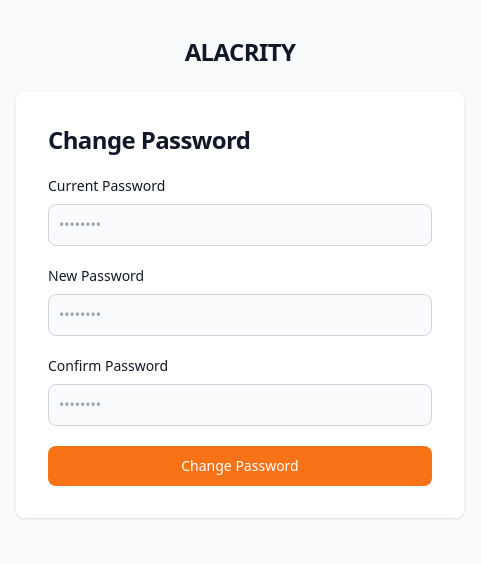
ChangePassword component › shows an error message on API failure
This screenshot has width=481, height=564.
In the password field labelled "Current Password": (240, 225) [48,204,432,246], type "OldPassword123!"
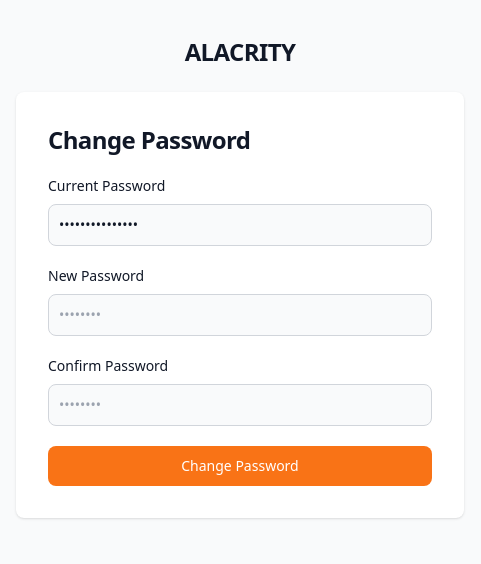
In the password field labelled "New Password": (240, 315) [48,294,432,336], type "NewPassword123!"
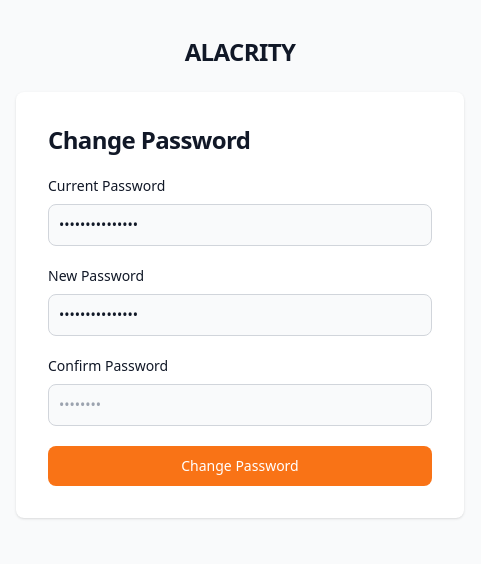
In the password field labelled "Confirm Password": (240, 405) [48,384,432,426], type "NewPassword123!"
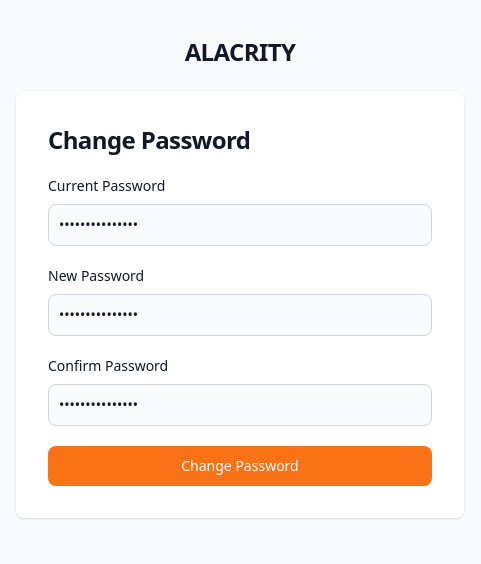
Click the button "Change Password": (240, 466) [48,446,432,486]
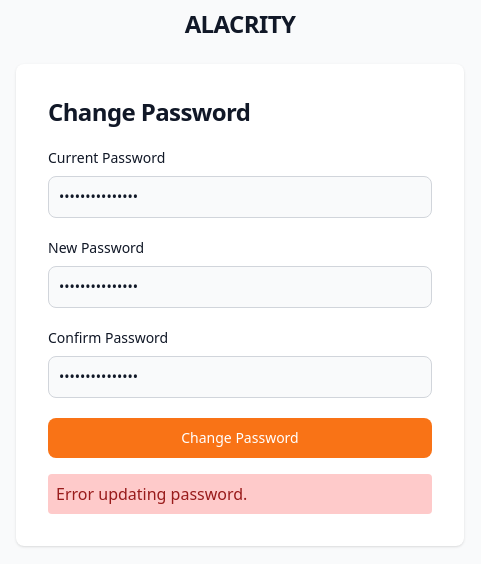
Check: the text "Error updating password." is shown, box [48,474,432,514]
